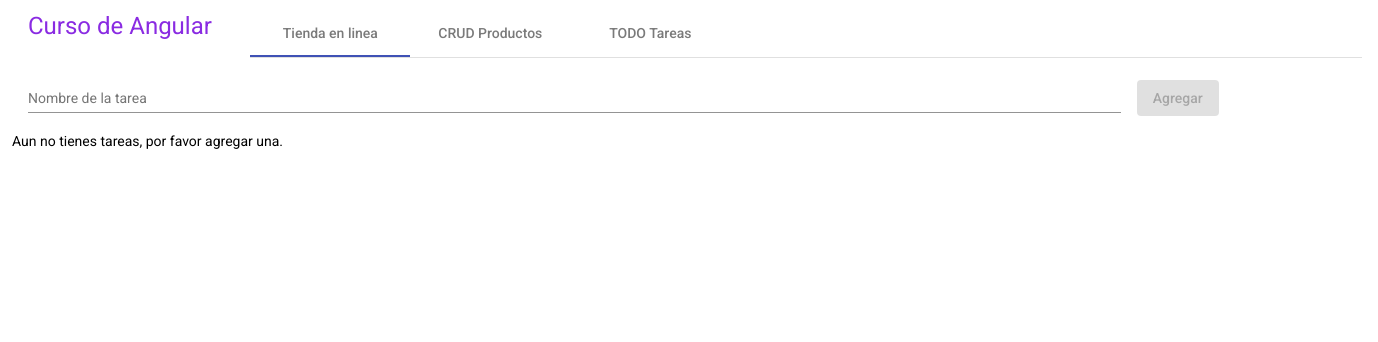
it: Lista de tareas › should add a new task
Type "Nueva tarea desde cypress" into the field with test id "taskInput" at (575, 99), box x1=28 y1=91 x2=1121 y2=107
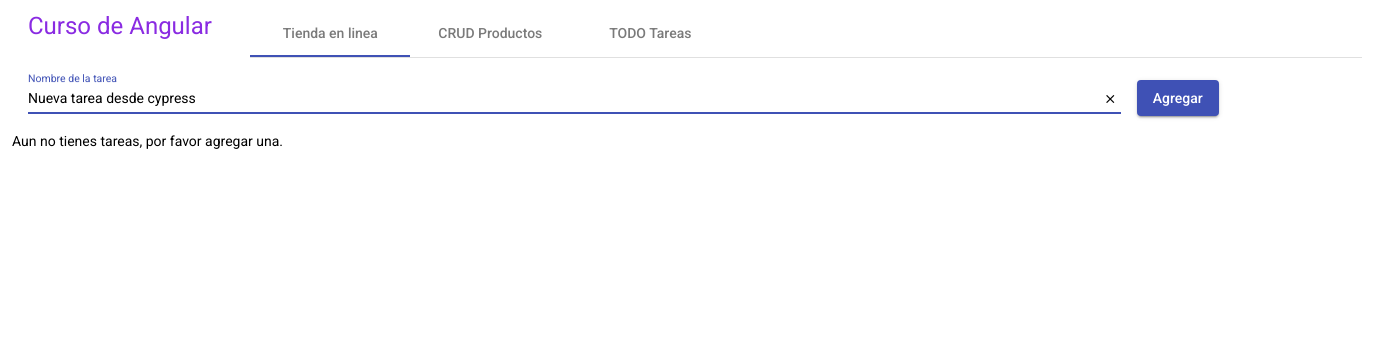
Click the button with test id "taskButton" at (1178, 98), box x1=1137 y1=80 x2=1219 y2=116
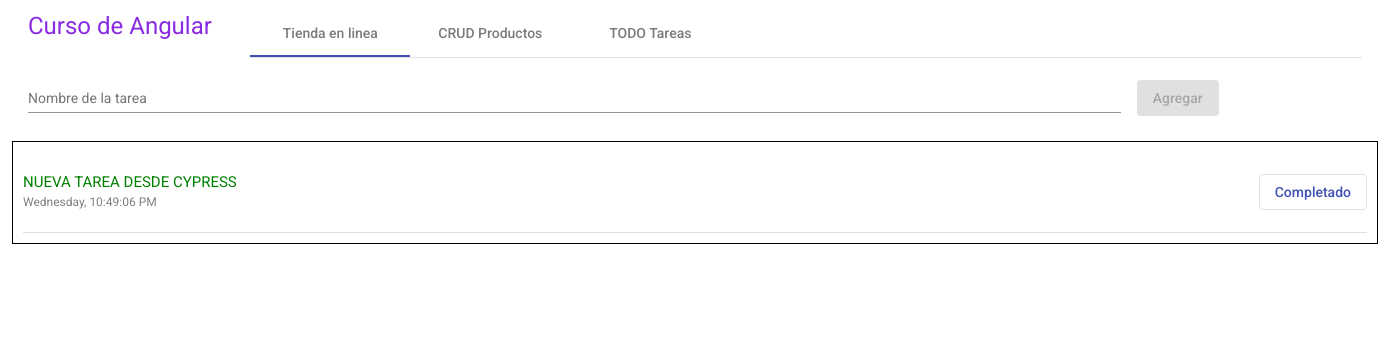
Expected: the number of elements with test id "taskItem" is 1, x1=23 y1=173 x2=1367 y2=210
Type "Otra tarea desde cypress" into the field with test id "taskInput" at (575, 99), box x1=28 y1=91 x2=1121 y2=107
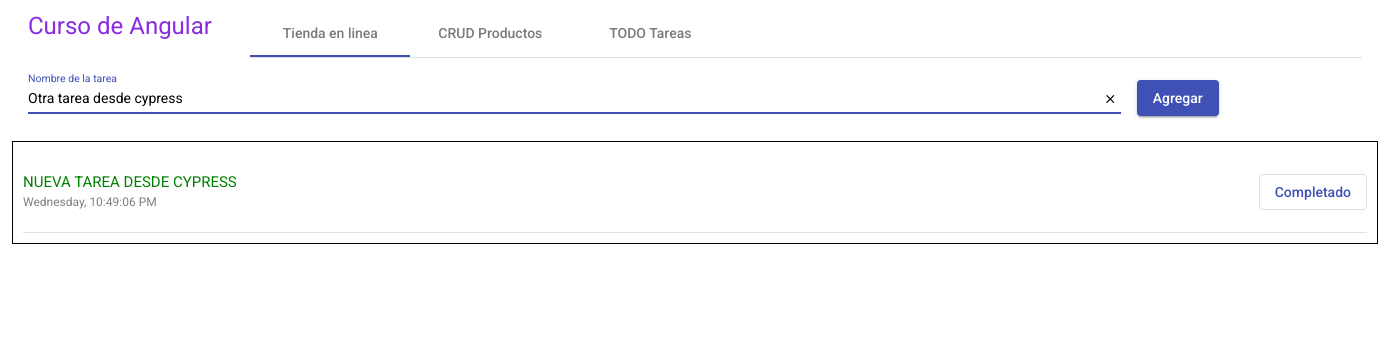
Click the button with test id "taskButton" at (1178, 98), box x1=1137 y1=80 x2=1219 y2=116
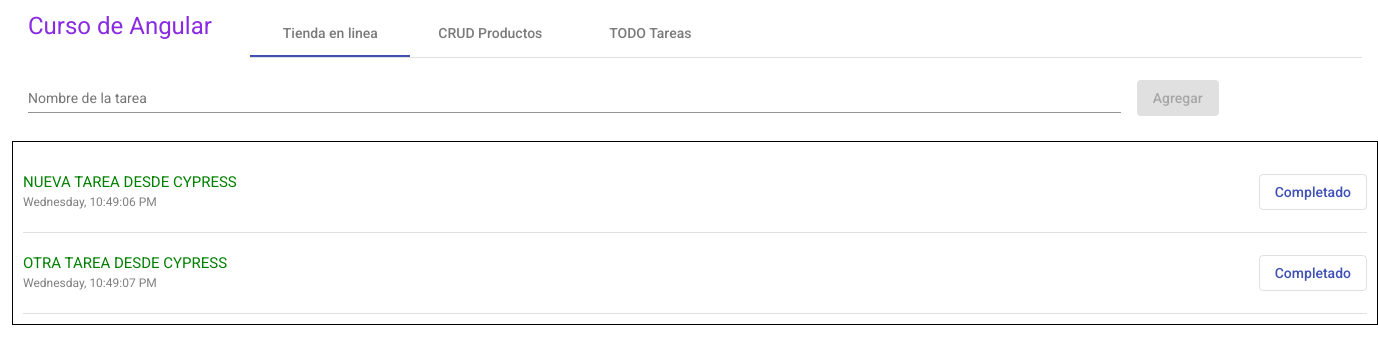
Expected: the number of elements with test id "taskItem" is 2, x1=23 y1=172 x2=1367 y2=210; x1=23 y1=254 x2=1367 y2=290
